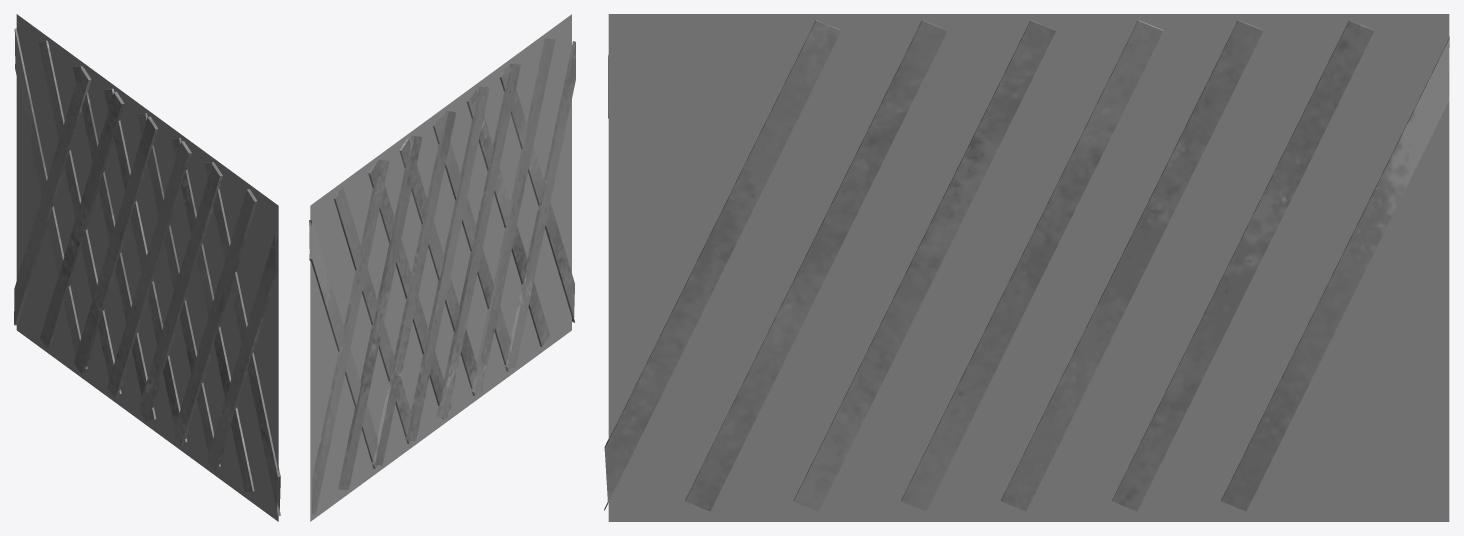
The model's file is barricade_net.fbx.
The picture shows the model from 3 angles, left to right: view 1: azimuth 30°, elevation 25°; view 2: azimuth 150°, elevation 25°; view 3: azimuth 270°, elevation 25°; orthographic projection. The views are drawn at different scales.
Visible parts, largest first — view 1: pCube17; view 2: pCube17; view 3: pCube17.
Boxes of the visible parts, x1,y1,x2,y2 form: pCube17: [14, 14, 280, 521]; pCube17: [309, 14, 575, 521]; pCube17: [604, 14, 1449, 521].
Size of the model in its own units: 3.14 by 200 by 302.
